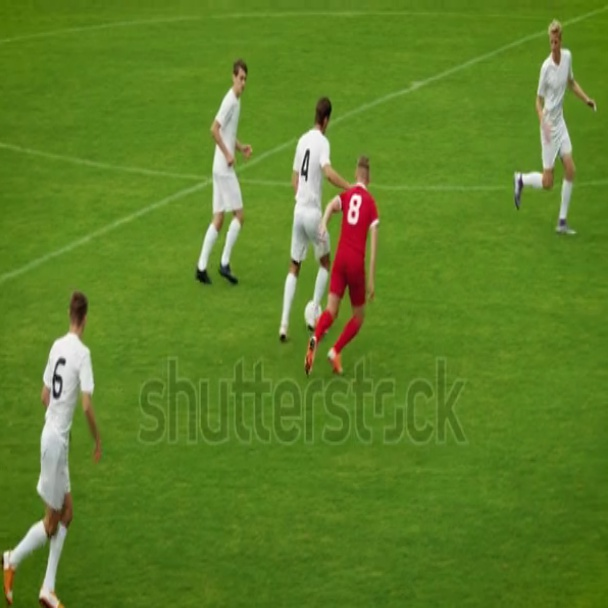ball: (307, 297, 323, 332)
